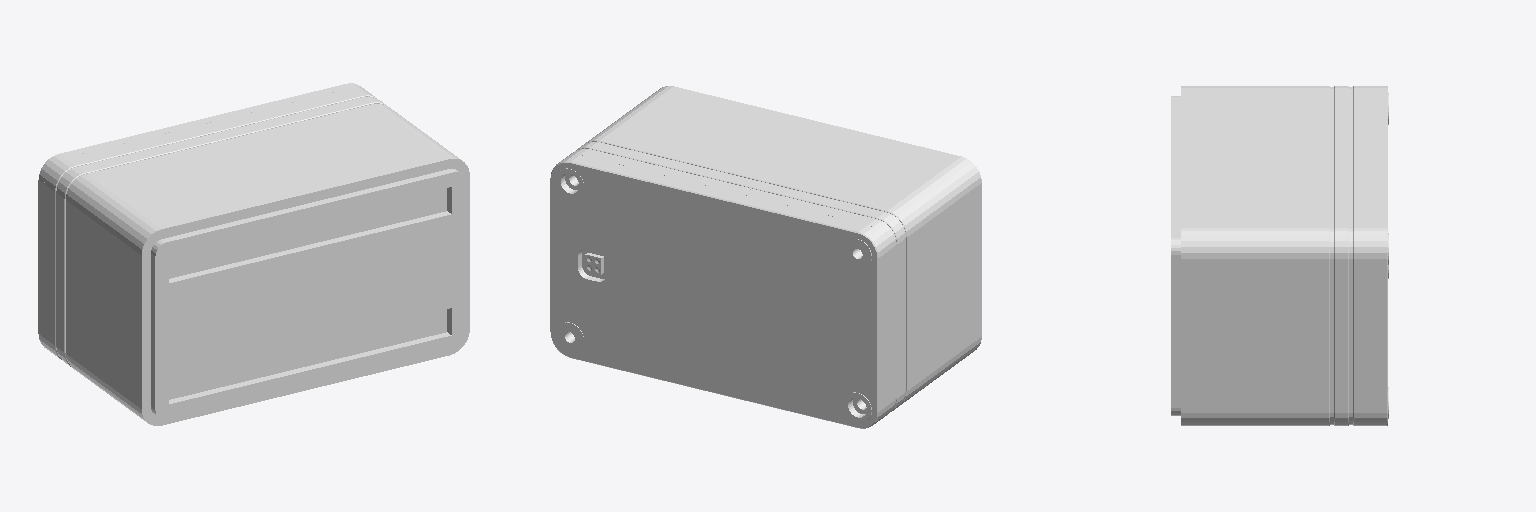
File: gripper_wr_FL_ISO50_CRG200_Grundkorper_CUSTOMER_CRG200_body_CRG200_body_CRG200_body.obj
3 renders of one model, left to right at view 1: azimuth 30°, elevation 25°; view 2: azimuth 150°, elevation 25°; view 3: azimuth 270°, elevation 25°, orthographic.
Size of the model in its own units: 0.105 by 0.06 by 0.0601.